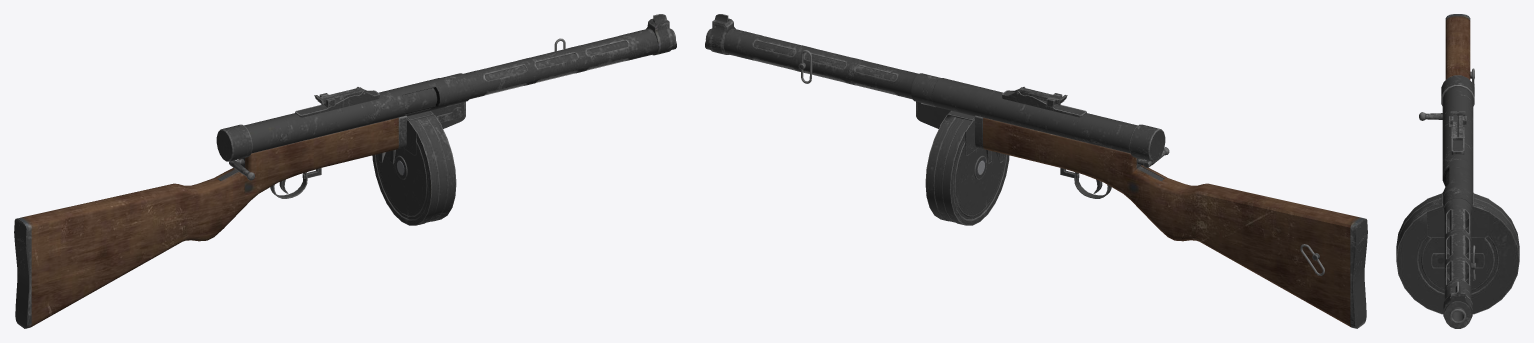
The model's file is Suomi_KP.glb.
3 views of the same model, side by side, from view 1: azimuth 30°, elevation 25°; view 2: azimuth 150°, elevation 25°; view 3: azimuth 270°, elevation 25° (orthographic). The views are drawn at different scales.
Parts seen in each view (by area): view 1: Suomi_KP; view 2: Suomi_KP; view 3: Suomi_KP.
Part boxes in pixels (x1=…): Suomi_KP: x1=14, y1=14, x2=676, y2=328; Suomi_KP: x1=705, y1=14, x2=1367, y2=328; Suomi_KP: x1=1396, y1=14, x2=1519, y2=328.
Bounding box in the file's own units: 0.87 × 0.1992 × 0.1379.
1 material, 1 textured.
